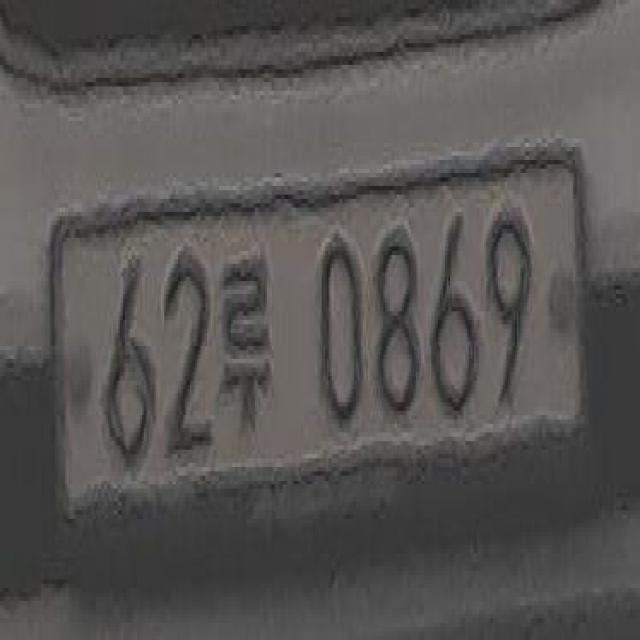0: (314, 206, 366, 438)
2: (161, 233, 213, 466)
6: (100, 244, 154, 478), (428, 198, 482, 430)
8: (372, 215, 420, 429)
9: (484, 193, 536, 424)
license_plate: (41, 119, 603, 560)
lu: (216, 229, 278, 449)
